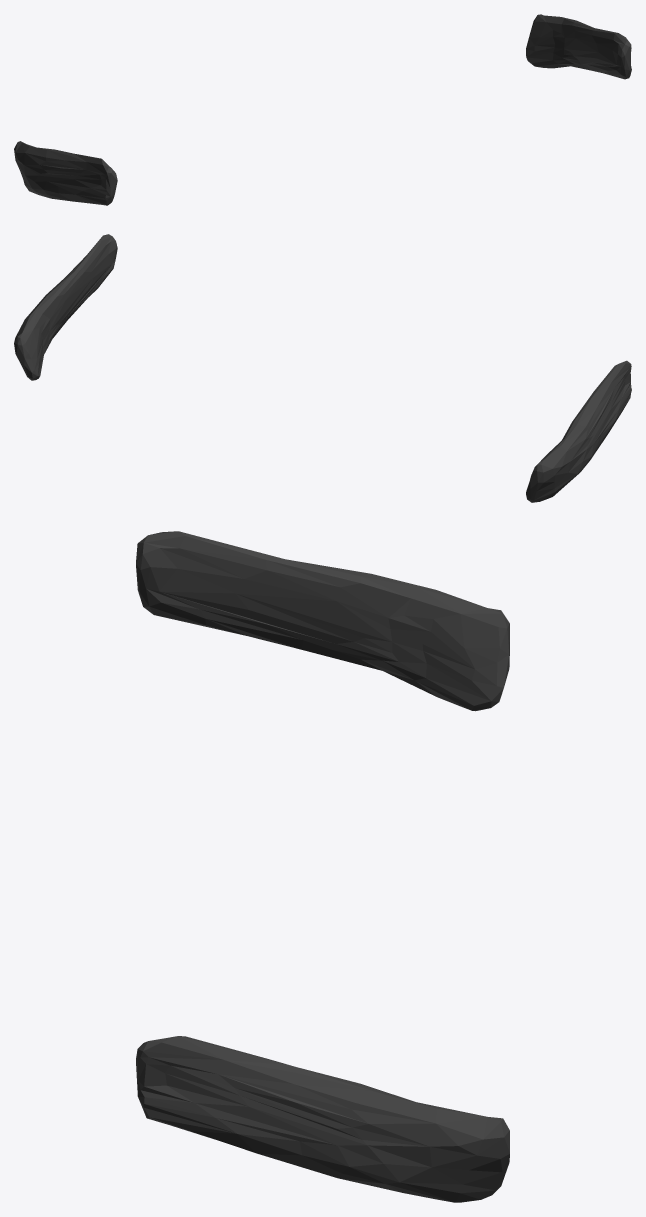
File: lig_medial_femoropatellar.glb
The picture shows the model from 3 angles, top to bottom: view 1: azimuth 30°, elevation 25°; view 2: azimuth 150°, elevation 25°; view 3: azimuth 270°, elevation 25°; orthographic projection. The views are drawn at different scales.
Visible parts, largest first — view 1: lig_medial_femoropatellar; view 2: lig_medial_femoropatellar; view 3: lig_medial_femoropatellar.
Boxes of the visible parts, <box> form: lig_medial_femoropatellar: <box>14,14,631,205</box>; lig_medial_femoropatellar: <box>14,234,631,502</box>; lig_medial_femoropatellar: <box>136,531,509,1202</box>.
Size of the model in its own units: 0.00454 by 0.000677 by 0.00134.
Materials: 1 (1 with a texture image).
